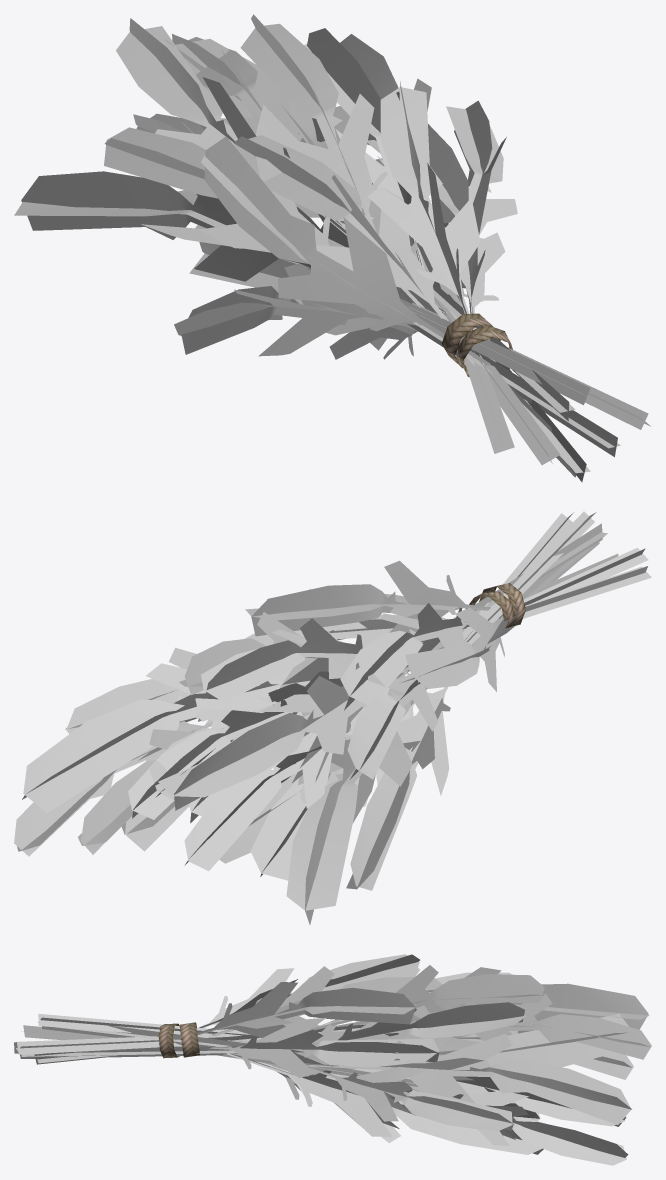
File: village_ambrosia_01.fbx
3 renders of one model, top to bottom at view 1: azimuth 30°, elevation 25°; view 2: azimuth 150°, elevation 25°; view 3: azimuth 270°, elevation 25°, orthographic. The views are drawn at different scales.
Parts seen in each view (by area): view 1: village_ambrosia_01; view 2: village_ambrosia_01; view 3: village_ambrosia_01.
Boxes of the visible parts, x1,y1,x2,y2 form: village_ambrosia_01: (14,14,651,482); village_ambrosia_01: (14,511,651,924); village_ambrosia_01: (14,954,651,1165).
Size of the model in its own units: 42.46 by 28.58 by 92.36.
